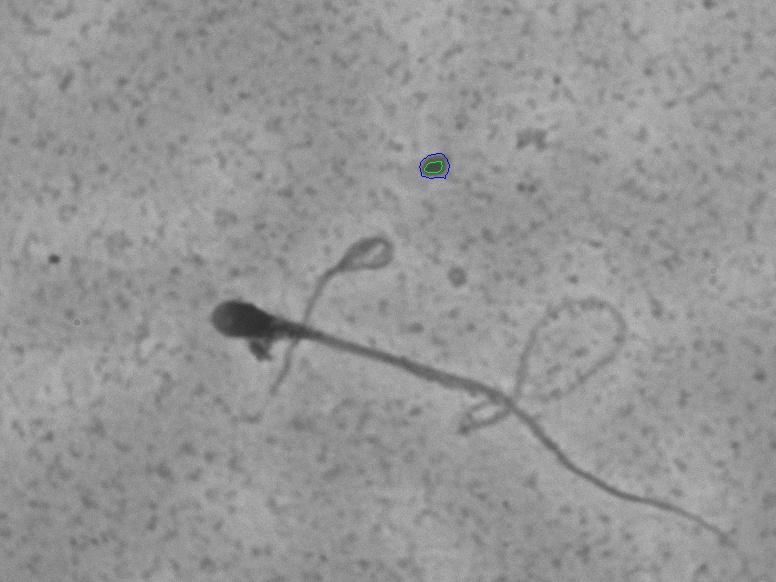Abnormal: (199, 198, 729, 508)
